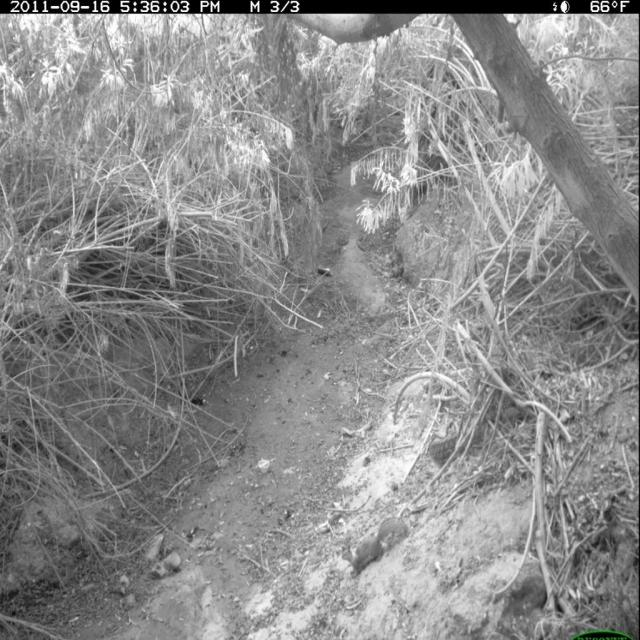squirrel: (338, 513, 416, 581)
